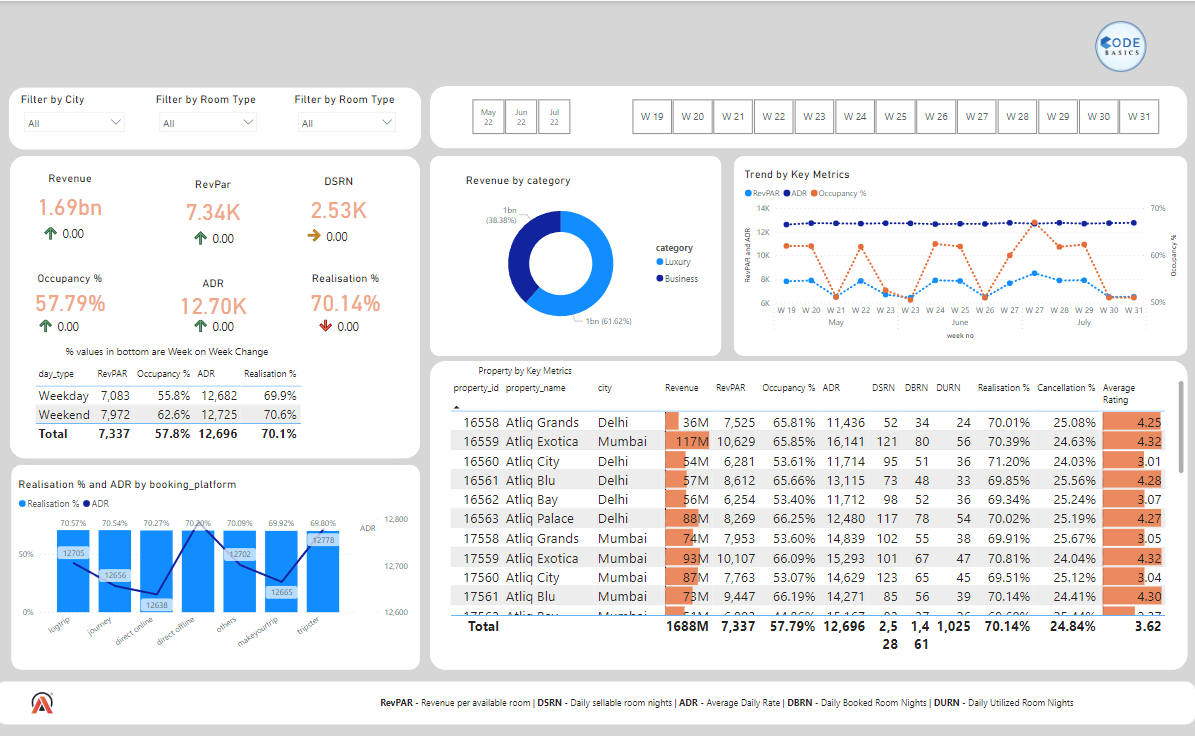

The dashboard page shown, as its layout file describes it:
{"tool":"powerbi","page":{"name":"report","canvas":[1800,1100],"ordinal":0},"visuals":[{"type":"shape","box":[649.9,537.9,1131.7,461.3],"z":0},{"type":"shape","box":[0,1016,1794.7,65.4],"z":1000},{"type":"shape","box":[24.3,692.9,610.7,306.3],"z":2000},{"type":"shape","box":[1103.7,231.6,677.9,298.8],"z":3000},{"type":"shape","box":[649.9,127,1131.7,93.4],"z":4000},{"type":"shape","box":[22.4,231.6,612.6,452],"z":5000},{"type":"shape","box":[20.5,129.1,616.3,93.4],"z":6000},{"type":"tableEx","fields":{"Values":["key measures.Revpar WoW change %"]},"box":[285.7,308.1,95.2,74.7],"z":7000},{"type":"tableEx","title":"DSRN","fields":{"Values":["key measures.DSRN WoW change %"]},"box":[455.7,304.4,113.9,71],"z":8000},{"type":"tableEx","fields":{"Values":["dim_hotels.property_id","dim_hotels.property_name","dim_hotels.city","key measures.Revenue","key measures.RevPAR","key measures.Occupancy %","key measures.ADR","key measures.DSRN","key measures.DBRN","key measures.DURN","key measures.Realisation %","key measures.Cancellation %"]},"box":[674.2,562.1,1107.5,416.5],"z":9000},{"type":"slicer","title":"Filter by City","fields":{"Values":["dim_hotels.city"]},"box":[33.6,135.6,169.9,80.3],"z":10000},{"type":"slicer","title":"Filter by Room Type","fields":{"Values":["dim_rooms.room_class"]},"box":[235.3,135.6,166.2,80.3],"z":11000},{"type":"tableEx","fields":{"Values":["key measures.Revenue WoW change %"]},"box":[61.6,300.7,97.1,74.7],"z":12000},{"type":"tableEx","fields":{"Values":["key measures.Occupancy WoW change %"]},"box":[54.2,438.9,104.6,67.2],"z":13000},{"type":"tableEx","fields":{"Values":["key measures.ADR WoW change %"]},"box":[285.7,438.9,115.8,72.8],"z":14000},{"type":"tableEx","fields":{"Values":["key measures.Realisation WoW change %"]},"box":[472.5,438.9,102.7,69.1],"z":15000},{"type":"tableEx","fields":{"Values":["dim_date.day_type","key measures.RevPAR","key measures.Occupancy %","key measures.ADR","key measures.Realisation %"]},"box":[54.2,541.6,539.7,141.9],"z":16000},{"type":"lineStackedColumnComboChart","fields":{"Category":["fact_bookings.booking_platform"],"Y2":["key measures.ADR"],"Y":["key measures.Realisation %"]},"box":[29.9,711.5,592,274.5],"z":17000},{"type":"textbox","box":[57.9,508,397.8,33.6],"z":18000},{"type":"textbox","box":[401.5,1034.2,1380.1,29.9],"z":19000},{"type":"textbox","box":[717.1,537.9,1001,31.7],"z":20000},{"type":"image","box":[1622.9,22.4,117.7,91.5],"z":21000},{"type":"image","box":[29.9,1027.2,82.2,43],"z":22000},{"type":"card","title":"RevPar","fields":{"Values":["key measures.RevPAR"]},"box":[244.7,263.3,162.5,80.3],"z":23000},{"type":"card","title":"DSRN","fields":{"Values":["key measures.DSRN"]},"box":[442.6,259.6,141.9,80.3],"z":24000},{"type":"card","title":"Revenue","fields":{"Values":["key measures.Revenue"]},"box":[33.6,254,156.9,84],"z":25000},{"type":"card","title":"Occupancy %","fields":{"Values":["key measures.Occupancy %"]},"box":[33.6,403.4,156.9,72.8],"z":26000},{"type":"card","title":"ADR","fields":{"Values":["key measures.ADR"]},"box":[244.7,410.9,162.5,65.4],"z":27000},{"type":"card","title":"Realisation %","fields":{"Values":["key measures.Realisation %"]},"box":[453.8,403.4,140.1,72.8],"z":28000},{"type":"slicer","title":"Filter by City","fields":{"Values":["dim_date.mmm yy"]},"box":[687.3,141,196.1,65.4],"z":29000},{"type":"slicer","title":"Filter by City","fields":{"Values":["dim_date.week no"]},"box":[926.3,141,836.7,65.4],"z":30000},{"type":"shape","box":[649.9,231.6,435.1,298.8],"z":31000},{"type":"donutChart","fields":{"Y":["key measures.Revenue"],"Category":["dim_hotels.category"]},"box":[698.5,257.7,367.9,250.3],"z":32000},{"type":"lineChart","title":"Trend by Key Metrics","fields":{"Category":["dim_date.mmm yy.Variation.Date Hierarchy.Month","dim_date.week no"],"Y":["key measures.RevPAR","key measures.ADR"],"Y2":["key measures.Occupancy %"]},"box":[1114.9,248.4,657.4,263.3],"z":33000},{"type":"slicer","title":"Filter by Room Type","fields":{"Values":["dim_rooms.room_class"]},"box":[442.6,135.6,166.2,80.3],"z":34000}]}

Visuals, with their boxes in screenshot pixels (x1, y1, x2, y2), scaled from the page's 1800x1100 canvas onto the 1195x736 screenshot:
shape: l=431, t=360, r=1183, b=669
shape: l=0, t=680, r=1191, b=724
shape: l=16, t=464, r=422, b=669
shape: l=733, t=155, r=1183, b=355
shape: l=431, t=85, r=1183, b=147
shape: l=15, t=155, r=422, b=457
shape: l=14, t=86, r=423, b=149
tableEx - key measures.Revpar WoW change %: l=190, t=206, r=253, b=256
"DSRN" tableEx: l=303, t=204, r=378, b=251
tableEx - dim_hotels.property_id x dim_hotels.property_name: l=448, t=376, r=1183, b=655
"Filter by City" slicer: l=22, t=91, r=135, b=144
"Filter by Room Type" slicer: l=156, t=91, r=267, b=144
tableEx - key measures.Revenue WoW change %: l=41, t=201, r=105, b=251
tableEx - key measures.Occupancy WoW change %: l=36, t=294, r=105, b=339
tableEx - key measures.ADR WoW change %: l=190, t=294, r=267, b=342
tableEx - key measures.Realisation WoW change %: l=314, t=294, r=382, b=340
tableEx - dim_date.day_type x key measures.RevPAR: l=36, t=362, r=394, b=457
lineStackedColumnComboChart - fact_bookings.booking_platform x key measures.ADR: l=20, t=476, r=413, b=660
textbox: l=38, t=340, r=303, b=362
textbox: l=267, t=692, r=1183, b=712
textbox: l=476, t=360, r=1141, b=381
image: l=1077, t=15, r=1156, b=76
image: l=20, t=687, r=74, b=716
"RevPar" card: l=162, t=176, r=270, b=230
"DSRN" card: l=294, t=174, r=388, b=227
"Revenue" card: l=22, t=170, r=126, b=226
"Occupancy %" card: l=22, t=270, r=126, b=319
"ADR" card: l=162, t=275, r=270, b=319
"Realisation %" card: l=301, t=270, r=394, b=319
"Filter by City" slicer: l=456, t=94, r=586, b=138
"Filter by City" slicer: l=615, t=94, r=1170, b=138
shape: l=431, t=155, r=720, b=355
donutChart - key measures.Revenue x dim_hotels.category: l=464, t=172, r=708, b=340
"Trend by Key Metrics" lineChart: l=740, t=166, r=1177, b=342
"Filter by Room Type" slicer: l=294, t=91, r=404, b=144
